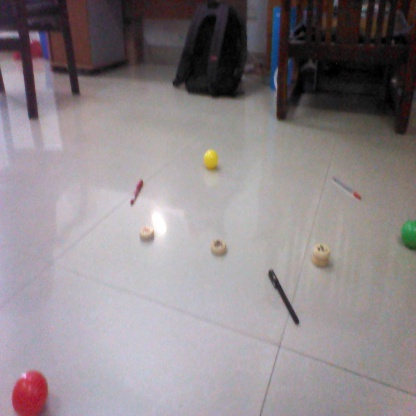ball: (13, 369, 54, 413), (399, 216, 416, 248), (201, 145, 224, 168)
chess: (308, 245, 332, 267), (211, 239, 233, 256), (139, 227, 157, 241)
pen: (267, 271, 302, 323), (330, 177, 361, 201), (130, 176, 143, 205)
